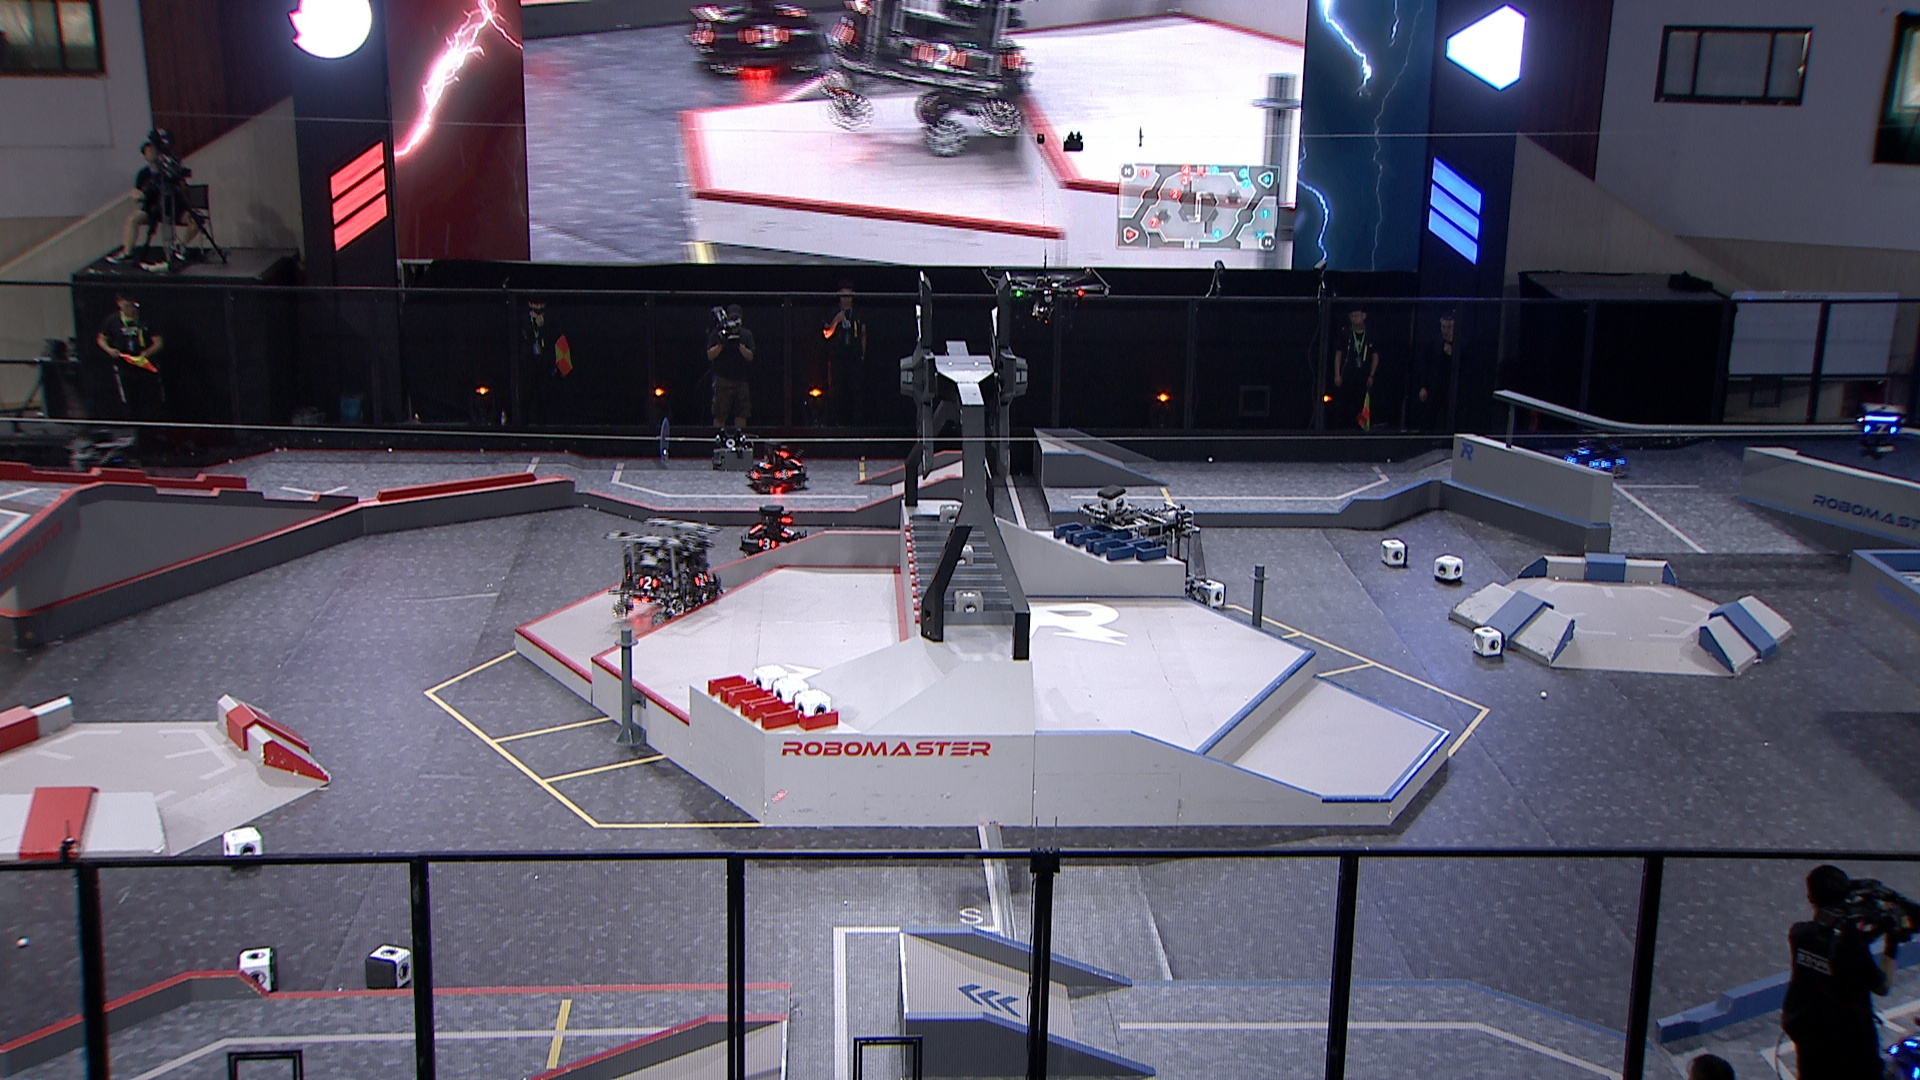armor: (1861, 422, 1898, 438), (637, 574, 659, 591), (1586, 458, 1611, 472), (756, 535, 778, 551), (771, 467, 794, 481), (694, 570, 711, 588), (1569, 443, 1593, 456), (781, 526, 796, 541), (756, 458, 774, 469), (746, 465, 760, 480)
car: (1079, 498, 1215, 621), (603, 517, 724, 628), (65, 429, 149, 510), (738, 501, 811, 560), (1564, 431, 1633, 481), (746, 443, 808, 491), (1883, 1007, 1920, 1080)
watcher: (1851, 401, 1905, 463)
